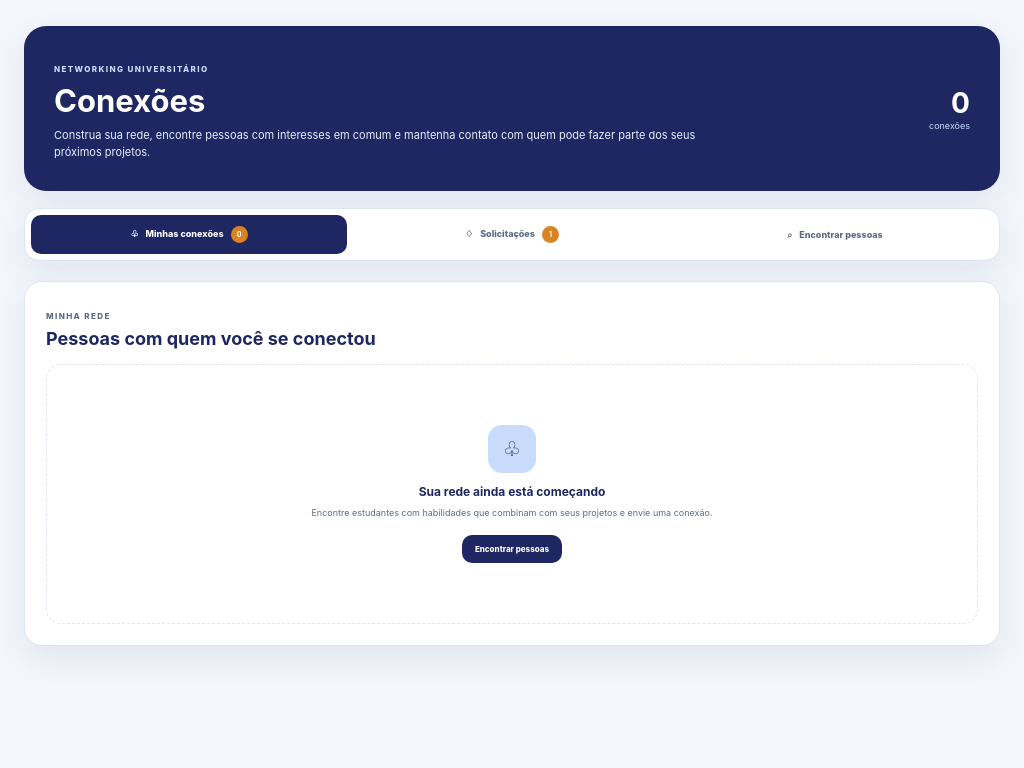
Test: Conexões › aceita solicitações e persiste conexões e lista atualizada
Click the button "♢ Solicitações 1" at coordinates (512, 235), box [354,215,670,254]
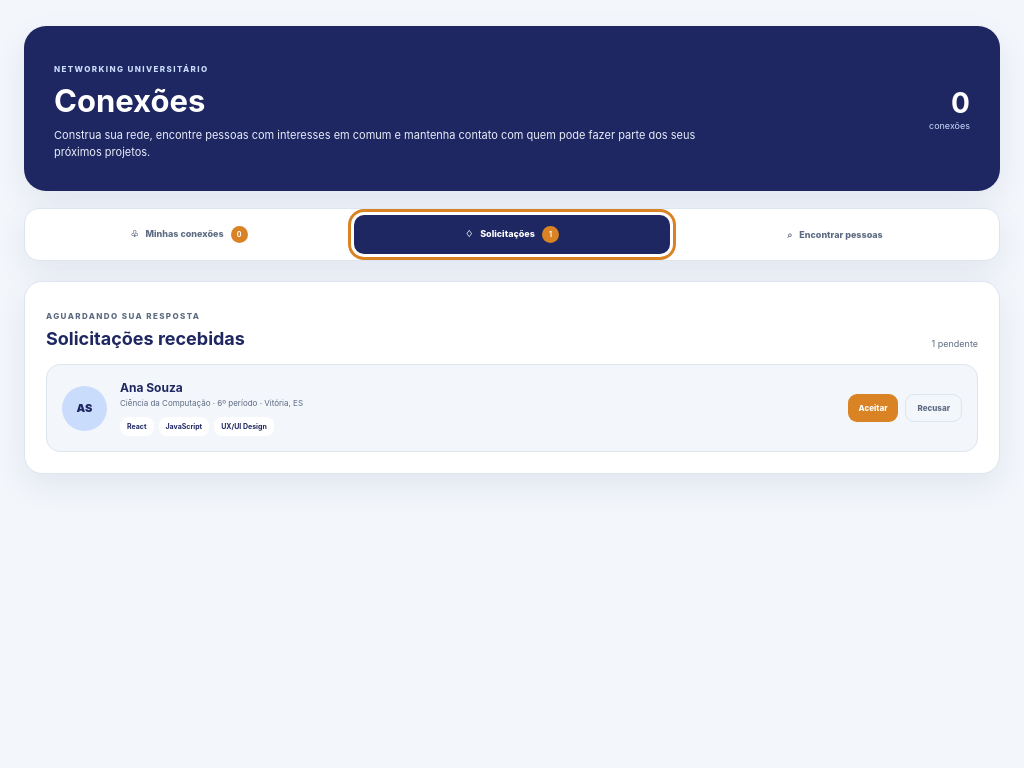
Click the button "Aceitar" at coordinates (873, 408), box [848,394,898,422]
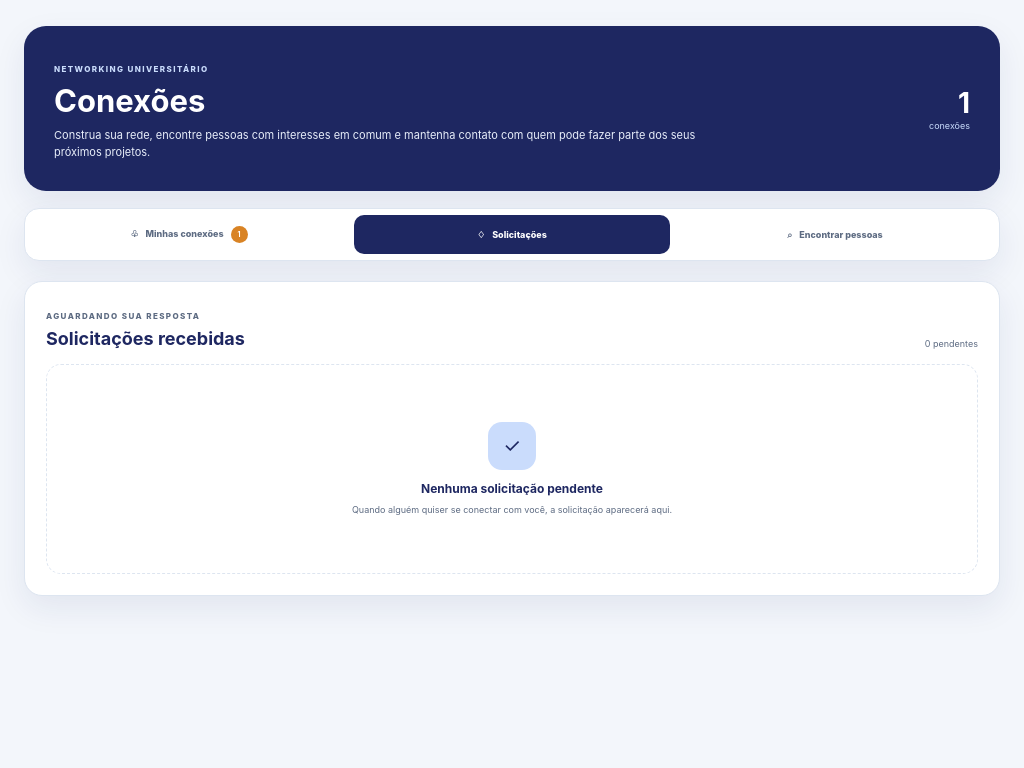
Expected: the text "Nenhuma solicitação pendente" is shown, [421,481,603,496]
